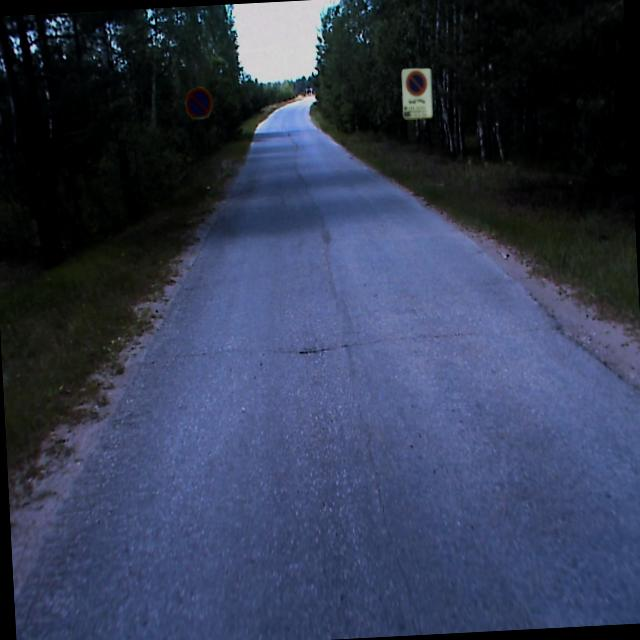road: (14, 98, 640, 640)
